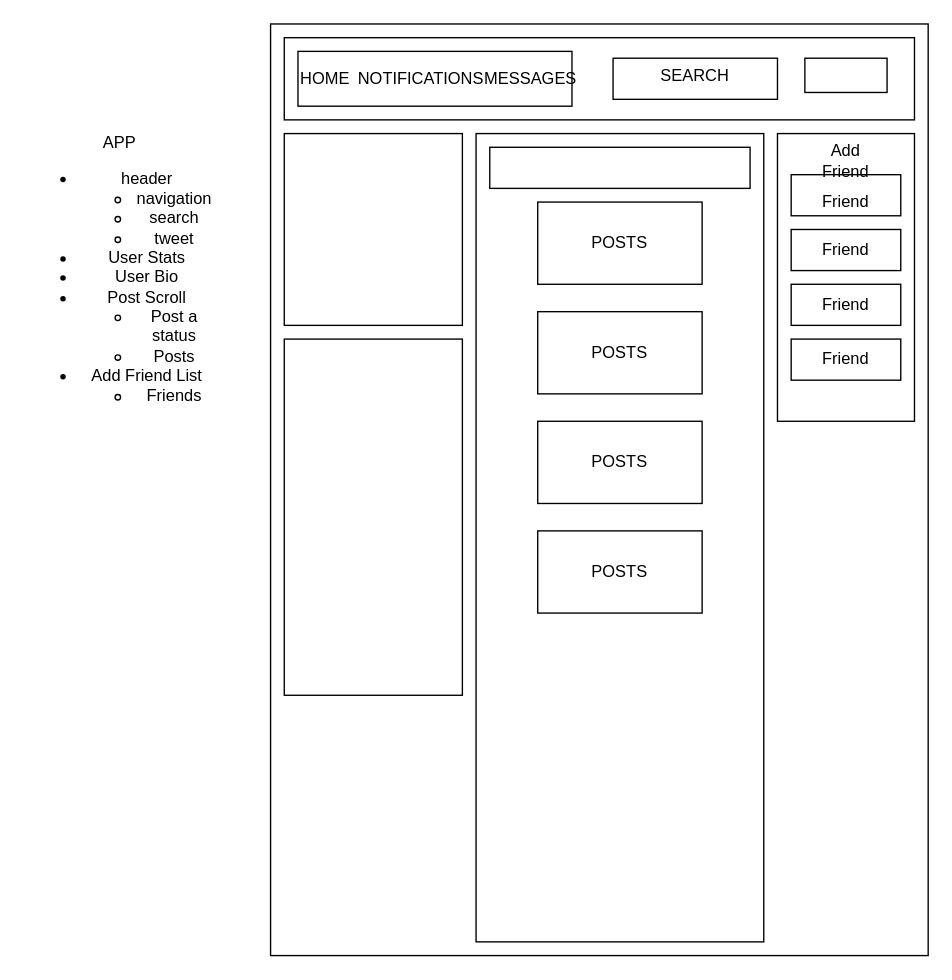
Image size: 952x980. Some labels were removed from this diagram. The shapes that lost their labels are listed below. From the top down, each one's centre as x and y in pixels, then its label:
At [845,74]: "TWEET".
At [619,167]: "POST STATUS".
At [372,228]: "USER STATS".
At [372,516]: "USER BIO".
